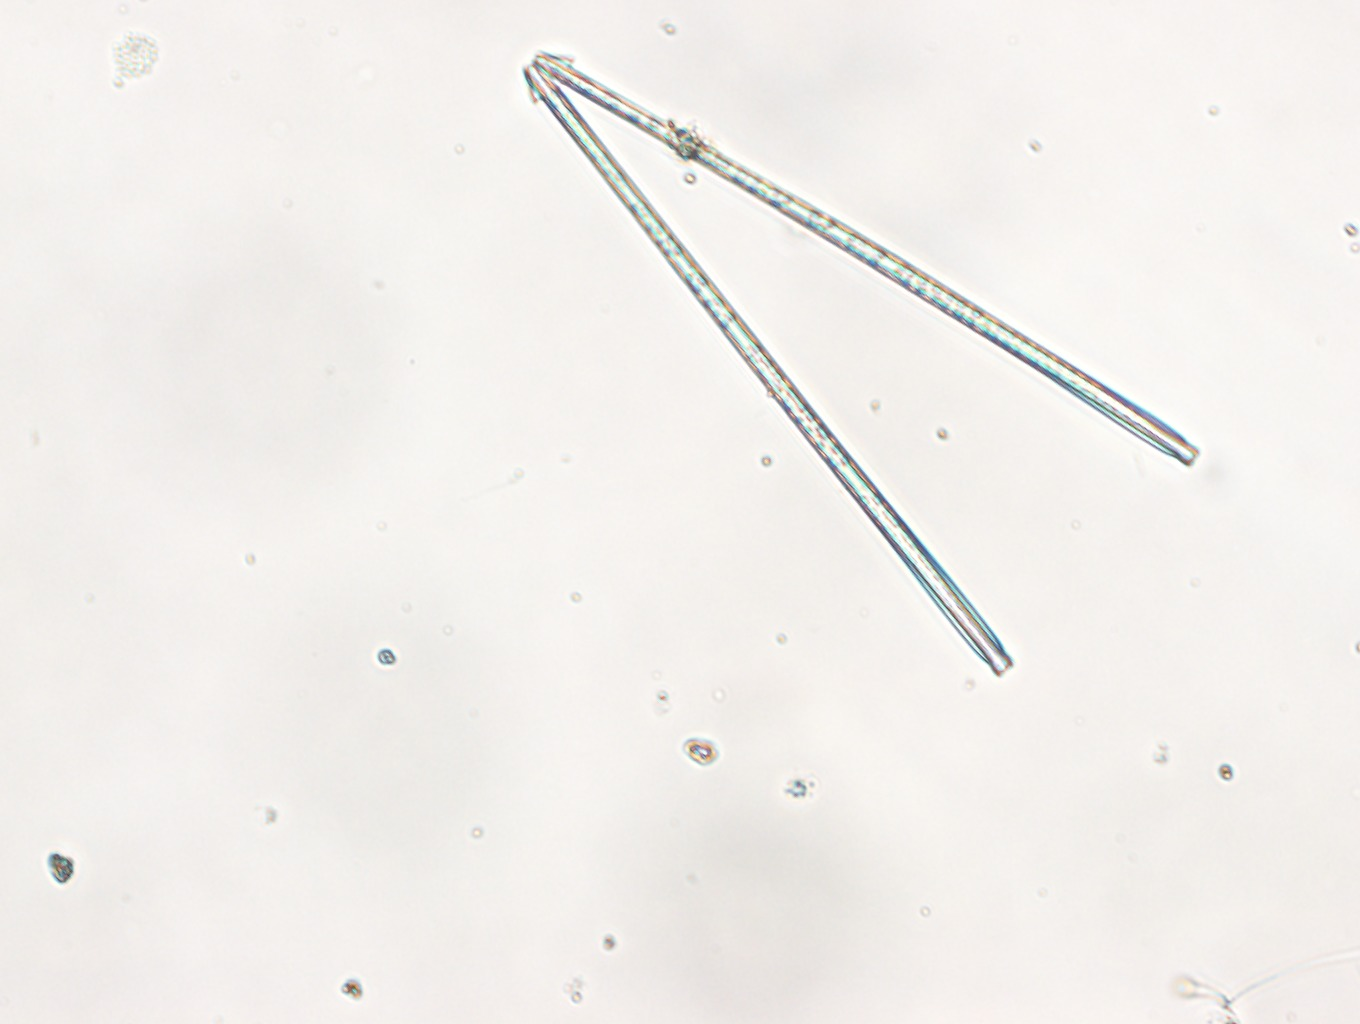ceratium fusus: (521, 53, 1204, 679)
